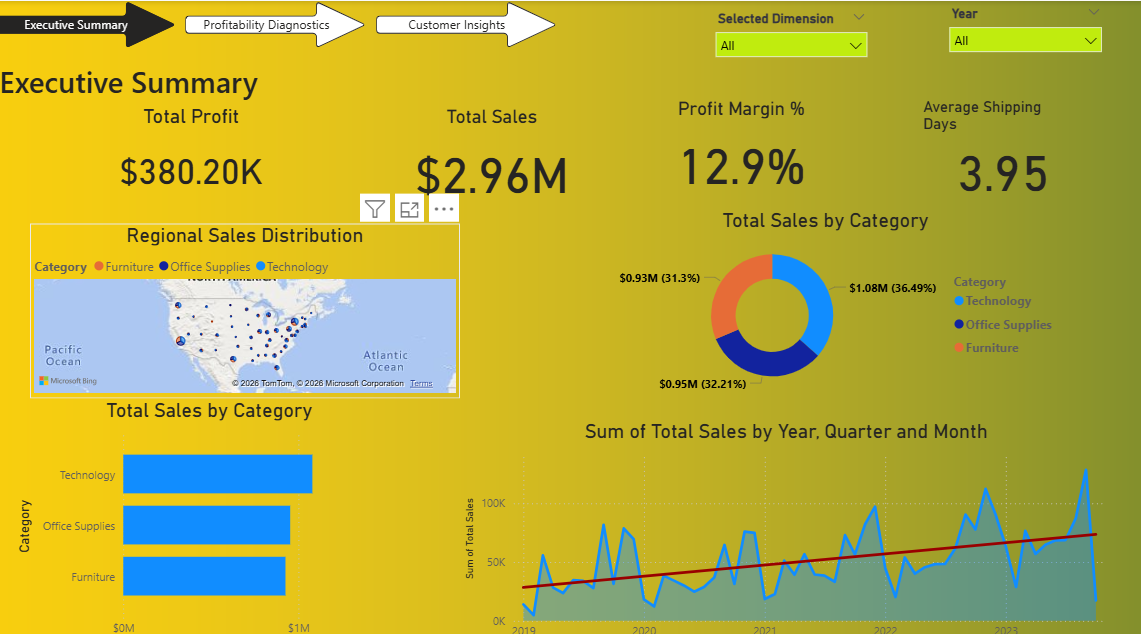

What the dashboard file says about the page in this screenshot:
{"tool":"powerbi","page":{"name":"Executive Summary","canvas":[1280,720],"ordinal":0},"visuals":[{"type":"slicer","fields":{"Values":["Selected Dimension.Selected Dimension"]},"box":[780.8,5.5,186.6,67.2],"z":0},{"type":"clusteredBarChart","fields":{"Category":["Dim_Product.Category","Dim_Product.Sub-Category","Dim_Customer.Segment","Dim_Geography.Region","Dim_Date.Day Type"],"Y":["_Measures.Total Sales"]},"box":[19.2,436.4,432.2,284],"z":1000},{"type":"card","title":"Total Sales","fields":{"Values":["_Measures.Total Sales"]},"box":[451.5,115.3,188,113.9],"z":2000},{"type":"card","title":"Total Profit","fields":{"Values":["_Measures.Total Profit"]},"box":[122.1,113.9,186.6,113.9],"z":3000},{"type":"card","title":"Profit Margin %","fields":{"Values":["_Measures.Profit Margin %"]},"box":[725.9,105.7,186.6,112.5],"z":4000},{"type":"card","title":"Average Shipping Days","fields":{"Values":["_Measures.Average Shipping Days"]},"box":[1014.1,105.7,186.6,112.5],"z":5000},{"type":"areaChart","fields":{"Y":["Sum(Fact_Sales.Total Sales)"],"Category":["Dim_Date.Order Date.Variation.Date Hierarchy.Year","Dim_Date.Order Date.Variation.Date Hierarchy.Quarter","Dim_Date.Order Date.Variation.Date Hierarchy.Month","Dim_Date.Order Date.Variation.Date Hierarchy.Day"]},"box":[510.5,459.7,716.3,260.7],"z":6000},{"type":"donutChart","fields":{"Category":["Dim_Product.Category"],"Y":["_Measures.Total Sales"]},"box":[649.1,227.8,525.6,208.6],"z":7000},{"type":"slicer","fields":{"Values":["Dim_Date.Year"]},"box":[1037.4,0,188,76.8],"z":8000},{"type":"textbox","box":[0,61.7,293.7,52.1],"z":9000},{"type":"map","title":"Regional Sales Distribution","fields":{"Category":["Dim_Geography.State"],"Series":["Dim_Product.Category"],"Size":["_Measures.Total Sales"]},"box":[38.4,244.3,472,192.1],"z":10000},{"type":"pageNavigator","box":[0,0,617.5,52.1],"z":11000}]}

Visuals, with their boxes in screenshot pixels (x1, y1, x2, y2), scaled from the page's 1280x720 canvas onto the 1141x634 screenshot:
slicer - Selected Dimension.Selected Dimension: rect(696, 5, 862, 64)
clusteredBarChart - Dim_Product.Category x Dim_Product.Sub-Category: rect(17, 384, 402, 633)
"Total Sales" card: rect(402, 102, 570, 202)
"Total Profit" card: rect(109, 100, 275, 201)
"Profit Margin %" card: rect(647, 93, 813, 192)
"Average Shipping Days" card: rect(904, 93, 1070, 192)
areaChart - Sum(Fact_Sales.Total Sales) x Dim_Date.Order Date.Variation.Date Hierarchy.Year: rect(455, 405, 1094, 633)
donutChart - Dim_Product.Category x _Measures.Total Sales: rect(579, 201, 1047, 384)
slicer - Dim_Date.Year: rect(925, 0, 1092, 68)
textbox: rect(0, 54, 262, 100)
"Regional Sales Distribution" map: rect(34, 215, 455, 384)
pageNavigator: rect(0, 0, 550, 46)
